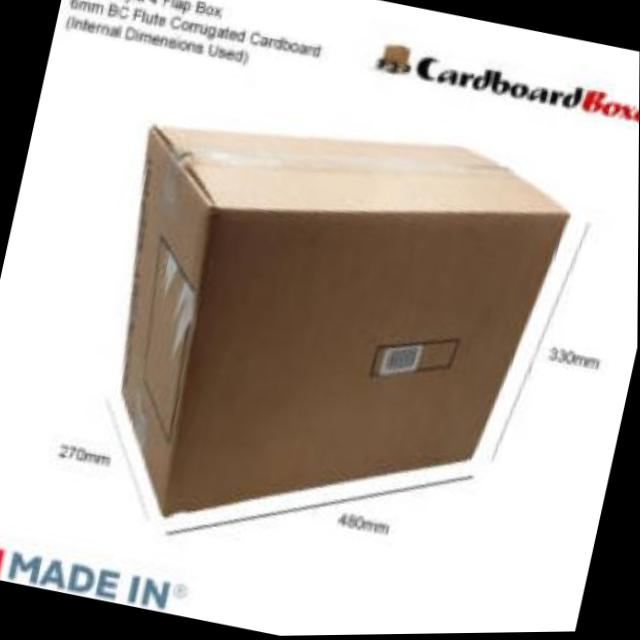box: (27, 69, 620, 640)
